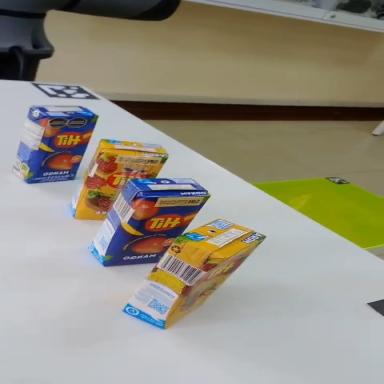HIT-MANGO: (79, 149, 212, 291), (7, 92, 100, 198)
HIT-MORA: (114, 193, 266, 348), (58, 117, 171, 243)
cara_F: (95, 164, 211, 292), (55, 124, 173, 234), (163, 229, 265, 337), (24, 100, 98, 198)
